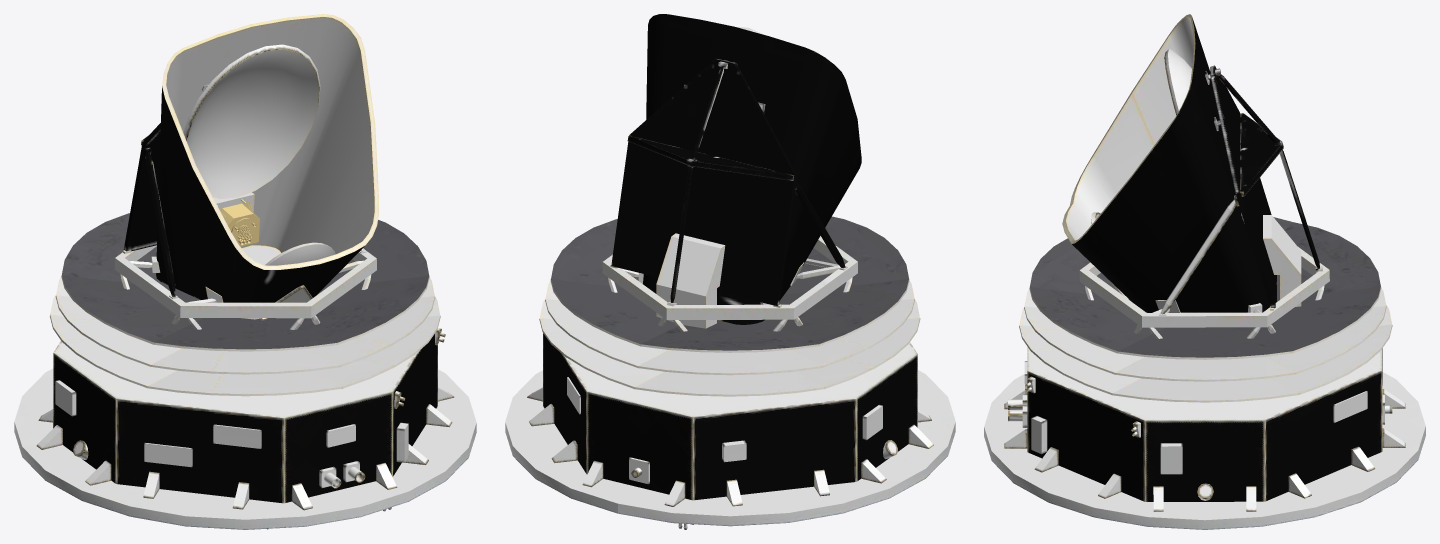
File: planck.glb
The picture shows the model from 3 angles, left to right: view 1: azimuth 30°, elevation 25°; view 2: azimuth 150°, elevation 25°; view 3: azimuth 270°, elevation 25°; orthographic projection. The views are drawn at different scales.
Visible parts, largest first — view 1: Group2; view 2: Group2; view 3: Group2.
Boxes of the visible parts, bbox=[...] form: Group2: bbox=[14, 14, 476, 529]; Group2: bbox=[505, 14, 955, 529]; Group2: bbox=[984, 14, 1425, 529].
Bounding box in the file's own units: 4.2 × 4.32 × 4.2.
Materials: 1 (1 with a texture image).
